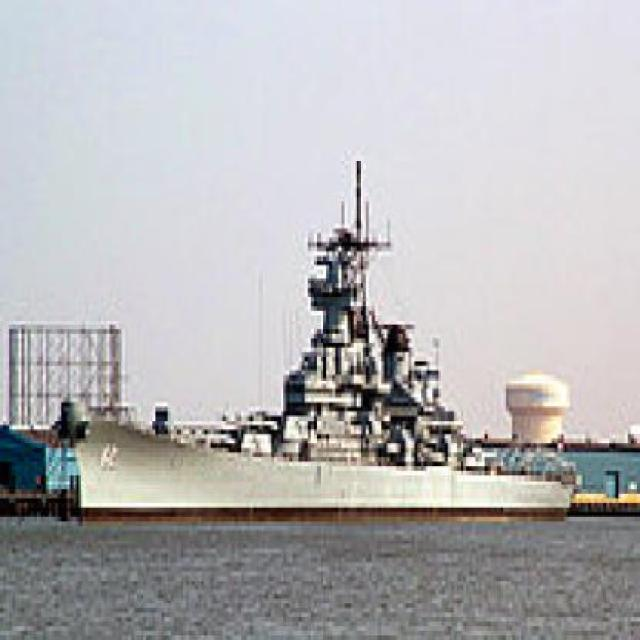warship2: (62, 179, 589, 518)
